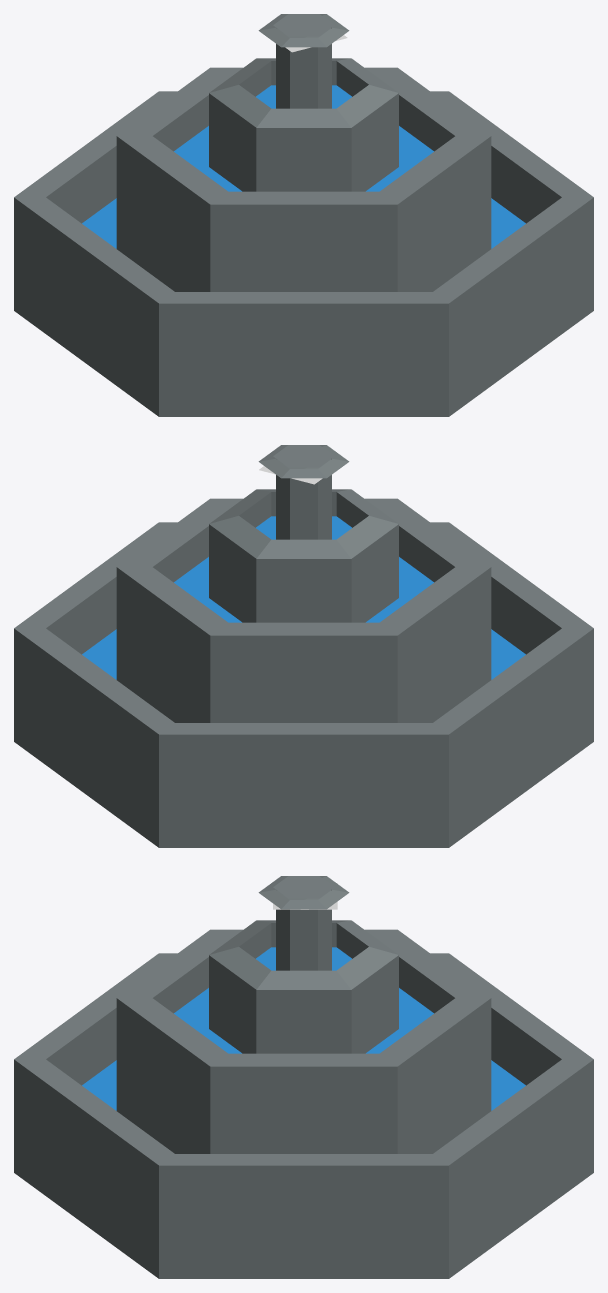
Rendered from fountain.fbx.
3 renders of one model, top to bottom at view 1: azimuth 30°, elevation 25°; view 2: azimuth 150°, elevation 25°; view 3: azimuth 270°, elevation 25°, orthographic.
Parts seen in each view (by area): view 1: Cylinder; view 2: Cylinder; view 3: Cylinder.
Part boxes in pixels (<box>): Cylinder: <box>14,14,593,416</box>; Cylinder: <box>14,445,593,847</box>; Cylinder: <box>14,876,593,1278</box>.
Bounding box in the file's own units: 5.12 × 3.21 × 5.91.
